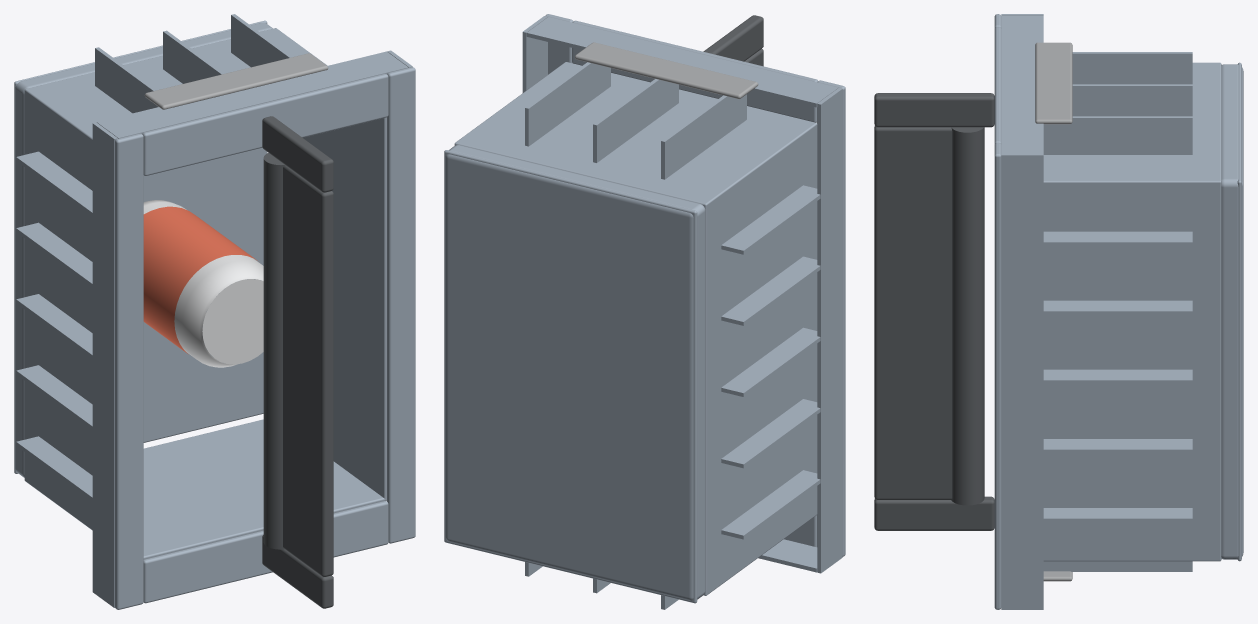
3 views of the same model, side by side, from view 1: azimuth 30°, elevation 25°; view 2: azimuth 150°, elevation 25°; view 3: azimuth 270°, elevation 25° (orthographic). The views are drawn at different scales.
Visible parts, largest first — view 1: /World/Totes/A05/Visual/TotePolypropylene, /World/Totes/A05/Visual/ToteRail, /World/Totes/A05/Goods0/Visual/CanAluminium, /World/Totes/A05/Goods0/Visual/PrintedLabel, /World/Totes/A05/Visual/PlasticGrey; view 2: /World/Totes/A05/Visual/TotePolypropylene, /World/Totes/A05/Visual/PlasticGrey, /World/Totes/A05/Visual/ToteRail; view 3: /World/Totes/A05/Visual/TotePolypropylene, /World/Totes/A05/Visual/ToteRail, /World/Totes/A05/Visual/PlasticGrey.
Boxes of the visible parts, x1,y1,x2,y2 form: /World/Totes/A05/Visual/TotePolypropylene: (14,14,415,609); /World/Totes/A05/Visual/ToteRail: (262,116,333,608); /World/Totes/A05/Goods0/Visual/CanAluminium: (143,200,263,367); /World/Totes/A05/Goods0/Visual/PrintedLabel: (143,206,257,354); /World/Totes/A05/Visual/PlasticGrey: (144,53,328,109); /World/Totes/A05/Visual/TotePolypropylene: (444,14,845,609); /World/Totes/A05/Visual/PlasticGrey: (575,42,758,99); /World/Totes/A05/Visual/ToteRail: (703,15,763,66); /World/Totes/A05/Visual/TotePolypropylene: (994,14,1243,609); /World/Totes/A05/Visual/ToteRail: (874,93,994,530); /World/Totes/A05/Visual/PlasticGrey: (1035,42,1072,581).
Size of the model in its own units: 0.198 by 0.301 by 0.218.
